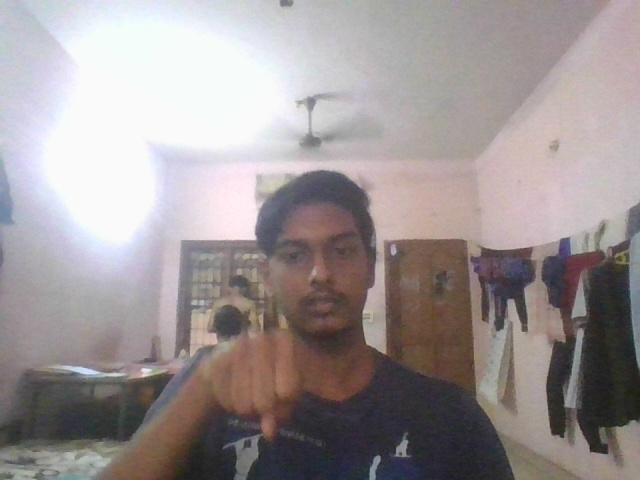yes: (192, 327, 314, 444)
